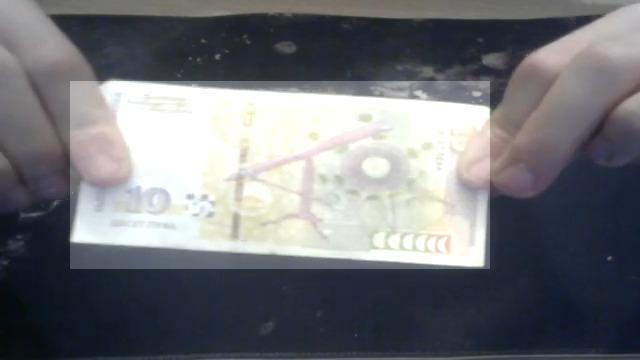10leva: (70, 81, 490, 269)
